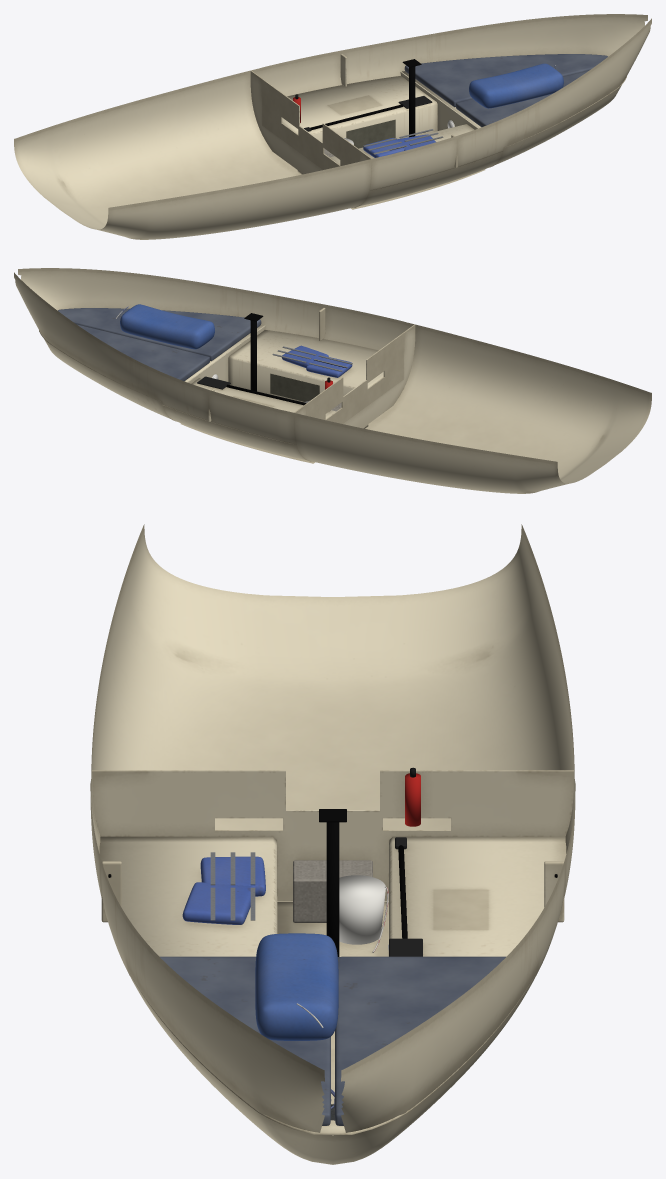
File: SM_J22H_Interior.fbx
The picture shows the model from 3 angles, top to bottom: view 1: azimuth 30°, elevation 25°; view 2: azimuth 150°, elevation 25°; view 3: azimuth 270°, elevation 25°; orthographic projection. The views are drawn at different scales.
Visible parts, largest first — view 1: SM_J22H_Interior; view 2: SM_J22H_Interior; view 3: SM_J22H_Interior.
Boxes of the visible parts, left/top/right/bottom form: SM_J22H_Interior: left=14, top=14, right=651, bottom=239; SM_J22H_Interior: left=14, top=268, right=651, bottom=493; SM_J22H_Interior: left=90, top=524, right=575, bottom=1164.
Size of the model in its own units: 2.42 by 6.8 by 1.11.
